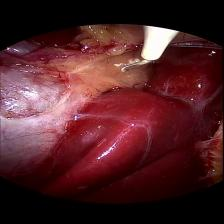Hook: (119, 22, 178, 72)
